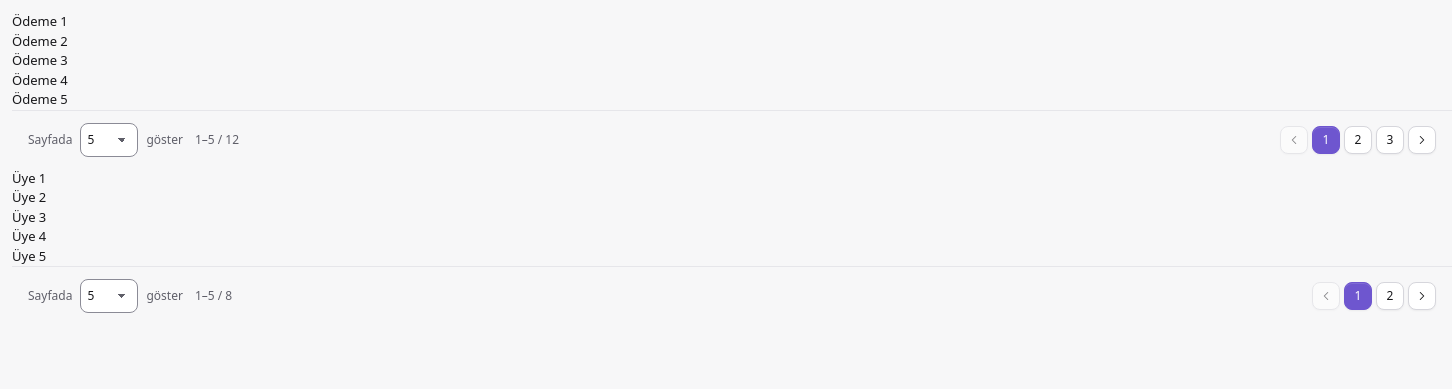
resets to the first page when the row count changes without changing another list
Click the button named "3. sayfa" at (1390, 140), box left=1376, top=126, right=1404, bottom=154
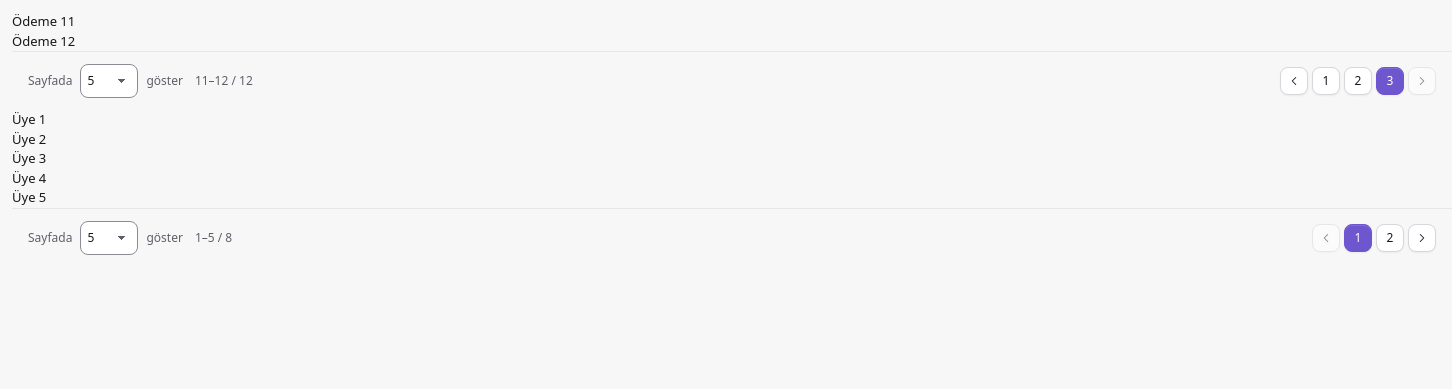
Click the button named "2. sayfa" at (1390, 238), box left=1376, top=224, right=1404, bottom=252
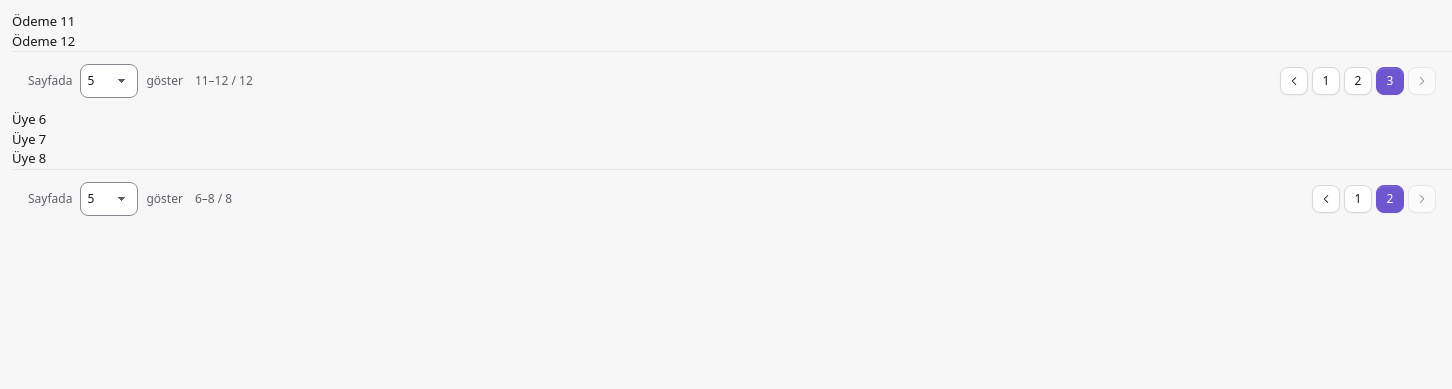
Select "10" in the dropdown labelled "Sayfada göster" in the row of "11–12 / 12" at (109, 81), box left=80, top=64, right=138, bottom=98
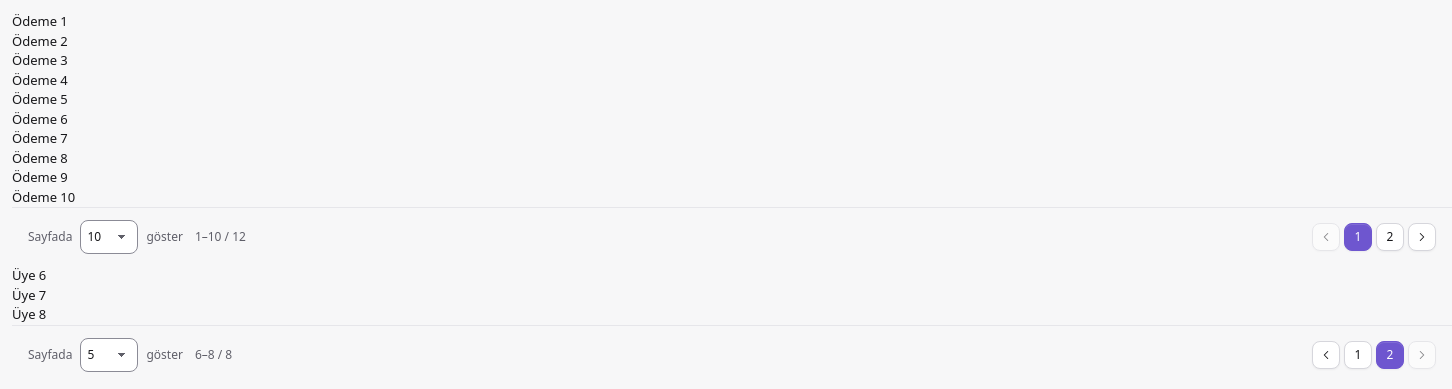
Result: the text "6–8 / 8" is shown at left=195, top=346, right=232, bottom=364
Result: the text "1–10 / 12" is shown at left=195, top=228, right=246, bottom=246
Result: the text "Ödeme 11" is gone
